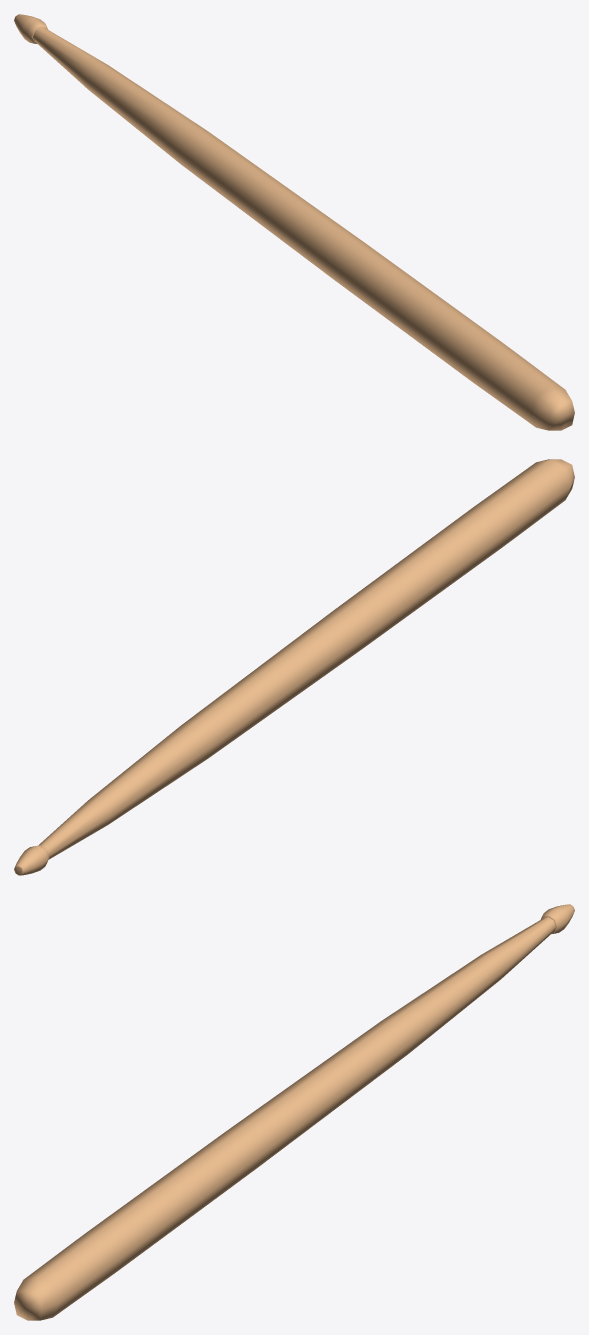
File: ddrumStick.fbx
3 views of the same model, one above another, from view 1: azimuth 30°, elevation 25°; view 2: azimuth 150°, elevation 25°; view 3: azimuth 330°, elevation 25° (orthographic).
Parts seen in each view (by area): view 1: drumStick; view 2: drumStick; view 3: drumStick.
Part boxes in pixels (bbox=[...]): drumStick: bbox=[14, 14, 574, 430]; drumStick: bbox=[14, 459, 574, 875]; drumStick: bbox=[14, 904, 574, 1320].
Size of the model in its own units: 1.22 by 1.22 by 27.49.
